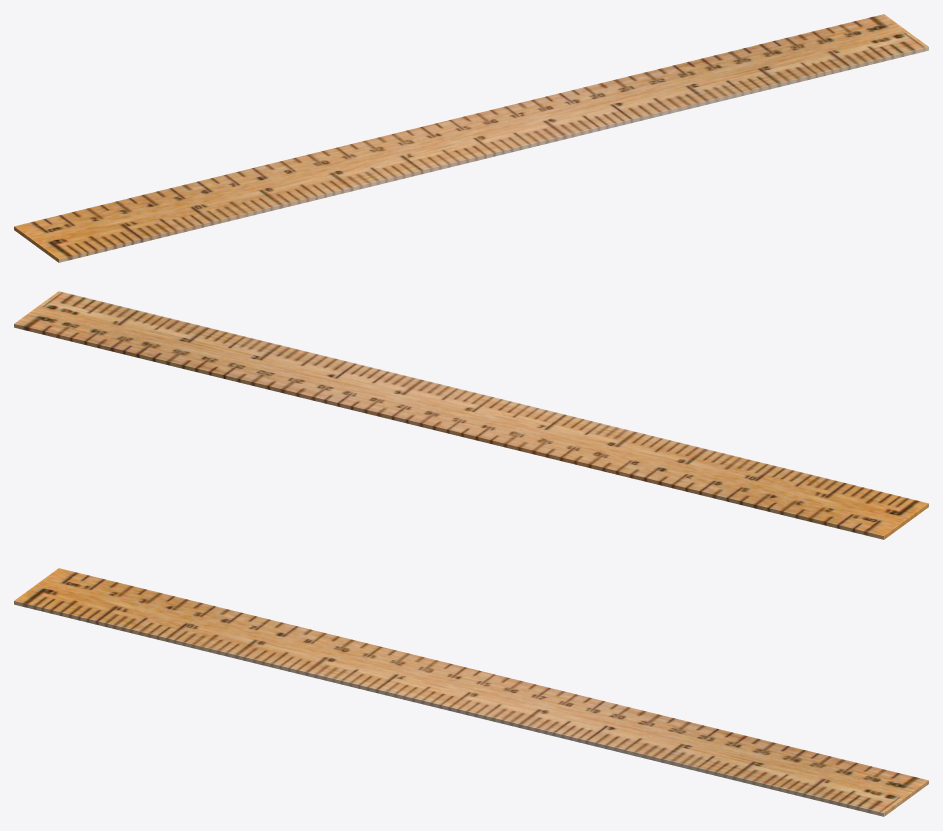
File: ruler.obj
3 views of the same model, one above another, from view 1: azimuth 30°, elevation 25°; view 2: azimuth 150°, elevation 25°; view 3: azimuth 330°, elevation 25° (orthographic).
Size of the model in its own units: 17.65 by 0.0716 by 1.58.
Materials: 1 (1 with a texture image).
